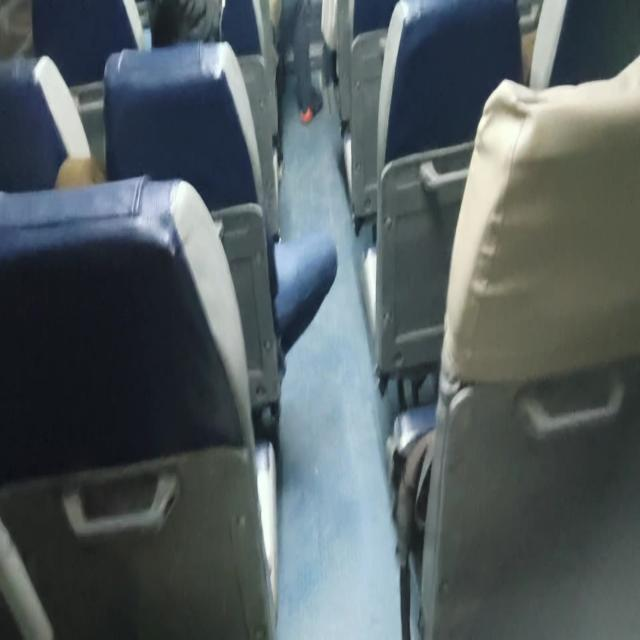person: (1, 1, 638, 637), (1, 40, 337, 638), (389, 52, 639, 637), (292, 0, 323, 124), (148, 0, 223, 48)
